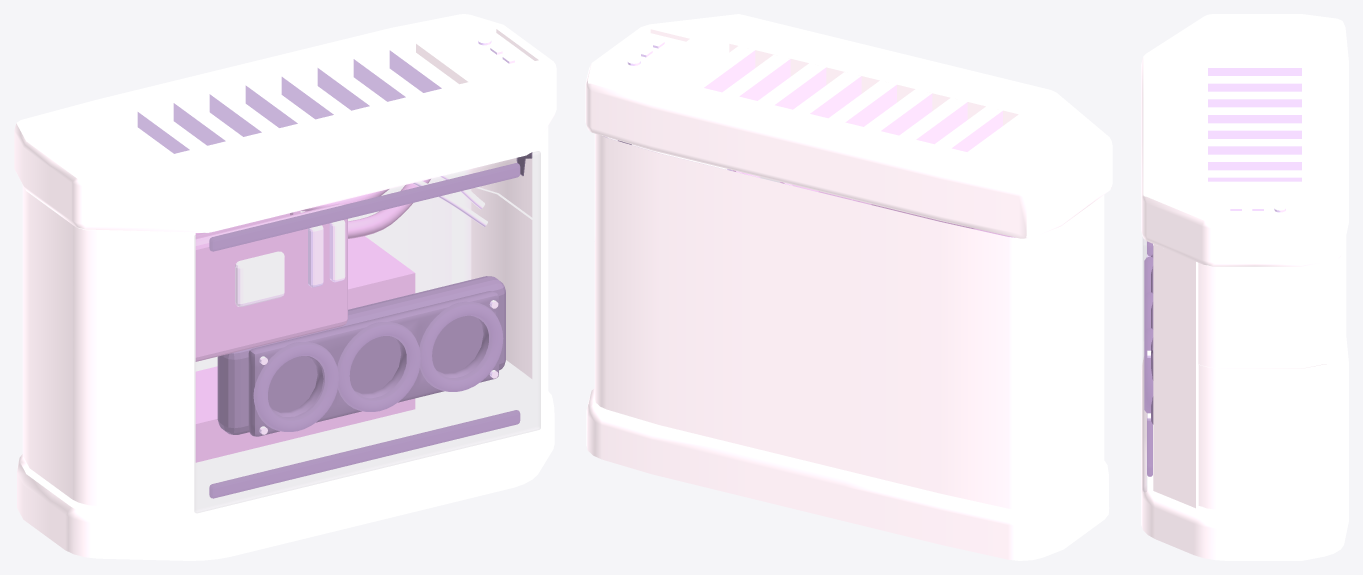
Rendered from pc-upgrade-preview.glb.
3 renders of one model, left to right at view 1: azimuth 30°, elevation 25°; view 2: azimuth 150°, elevation 25°; view 3: azimuth 270°, elevation 25°, orthographic. The views are drawn at different scales.
Visible parts, largest first — view 1: PC_Upgrade_Case_Replacement, PC_Upgrade_Glass_Panel, PC_Upgrade_Motherboard, PC_Upgrade_GPU_Block, PC_Upgrade_LED_Strip_Halo, PC_Upgrade_Top_LED_Strip_Halo, PC_Upgrade_Left_Fan_Halo, PC_Upgrade_Right_Fan_Halo, PC_Upgrade_RGB_Fan_Halo, PC_Upgrade_CPU_Block, PC_Upgrade_RAM_Block_2, PC_Upgrade_RAM_Block_1; view 2: PC_Upgrade_Case_Replacement; view 3: PC_Upgrade_Case_Replacement, PC_Upgrade_Right_Fan_Halo, PC_Upgrade_Glass_Panel, PC_Upgrade_LED_Strip_Halo, PC_Upgrade_RGB_Fan_Halo, PC_Upgrade_Left_Fan_Halo.
Boxes of the visible parts, x1=… form: PC_Upgrade_Case_Replacement: x1=14, y1=14, x2=556, y2=560; PC_Upgrade_Glass_Panel: x1=195, y1=151, x2=540, y2=512; PC_Upgrade_Motherboard: x1=195, y1=203, x2=347, y2=361; PC_Upgrade_GPU_Block: x1=217, y1=276, x2=505, y2=434; PC_Upgrade_LED_Strip_Halo: x1=209, y1=410, x2=520, y2=498; PC_Upgrade_Top_LED_Strip_Halo: x1=209, y1=163, x2=520, y2=251; PC_Upgrade_Left_Fan_Halo: x1=253, y1=342, x2=338, y2=431; PC_Upgrade_Right_Fan_Halo: x1=419, y1=301, x2=503, y2=391; PC_Upgrade_RGB_Fan_Halo: x1=337, y1=322, x2=420, y2=411; PC_Upgrade_CPU_Block: x1=235, y1=251, x2=284, y2=306; PC_Upgrade_RAM_Block_2: x1=329, y1=220, x2=345, y2=282; PC_Upgrade_RAM_Block_1: x1=308, y1=225, x2=323, y2=287; PC_Upgrade_Case_Replacement: x1=585, y1=14, x2=1112, y2=560; PC_Upgrade_Case_Replacement: x1=1141, y1=14, x2=1348, y2=560; PC_Upgrade_Right_Fan_Halo: x1=1144, y1=328, x2=1153, y2=413; PC_Upgrade_Glass_Panel: x1=1143, y1=239, x2=1146, y2=491; PC_Upgrade_LED_Strip_Halo: x1=1147, y1=413, x2=1152, y2=476; PC_Upgrade_RGB_Fan_Halo: x1=1144, y1=292, x2=1153, y2=331; PC_Upgrade_Left_Fan_Halo: x1=1144, y1=256, x2=1153, y2=295.
Bounding box in the file's own units: 1.99 × 1.5 × 0.8318.
